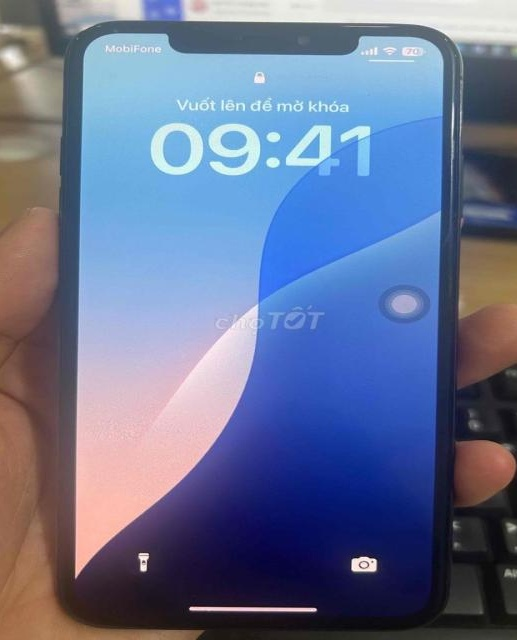scratch: (67, 18, 128, 48), (427, 29, 472, 64)
